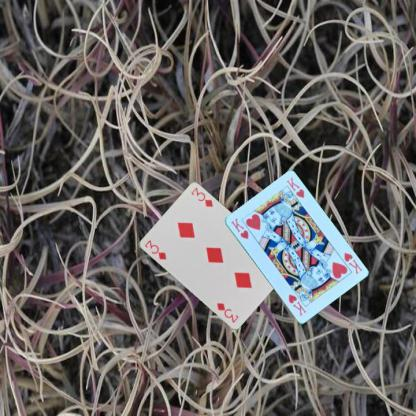3d: (142, 237, 168, 261)
Kh: (341, 250, 363, 276), (228, 216, 250, 240)
